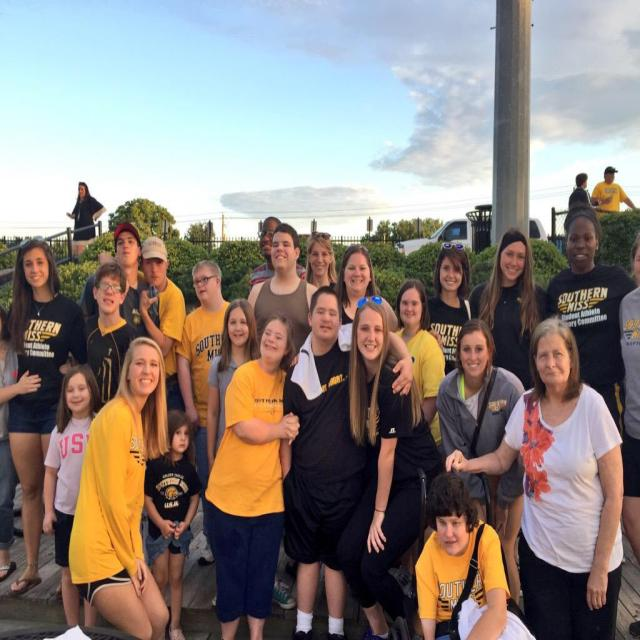body: (442, 315, 626, 639), (277, 281, 417, 639), (199, 310, 305, 640), (336, 293, 436, 640), (0, 233, 92, 600), (66, 334, 176, 639), (205, 296, 298, 611), (543, 206, 639, 437), (413, 470, 539, 640), (175, 258, 232, 568), (42, 363, 106, 629), (98, 235, 187, 410), (138, 408, 201, 639), (468, 225, 553, 392), (242, 222, 321, 369), (0, 304, 41, 582), (393, 279, 448, 459), (84, 262, 140, 422), (619, 229, 640, 636), (334, 243, 400, 356), (422, 242, 473, 376), (112, 221, 160, 340), (246, 214, 308, 293), (65, 180, 108, 242), (303, 229, 339, 293), (591, 164, 637, 214), (568, 173, 602, 213)
